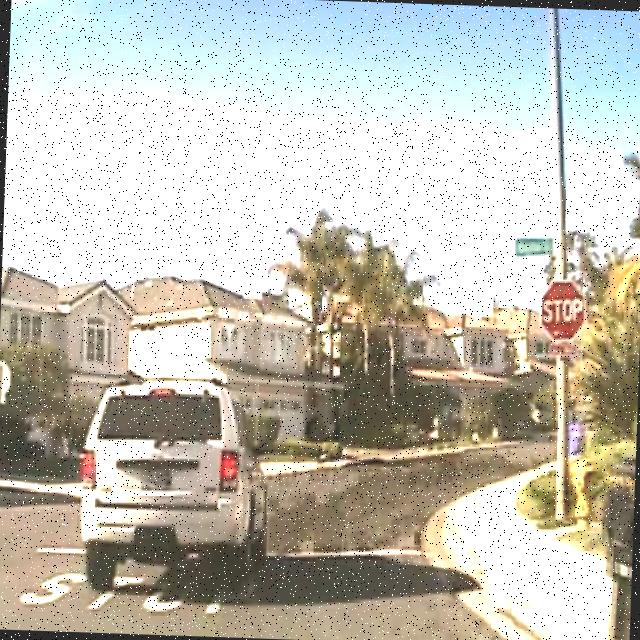Stop: (538, 277, 588, 343)
